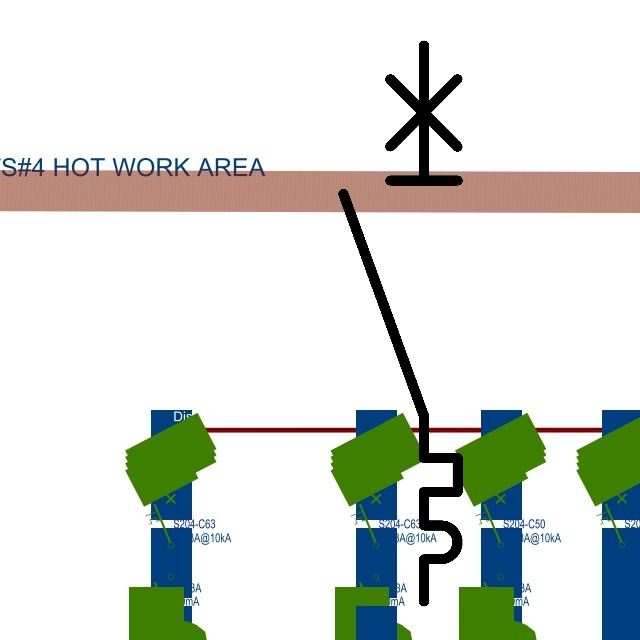interruptor_termomagnetico: (329, 31, 472, 616)
